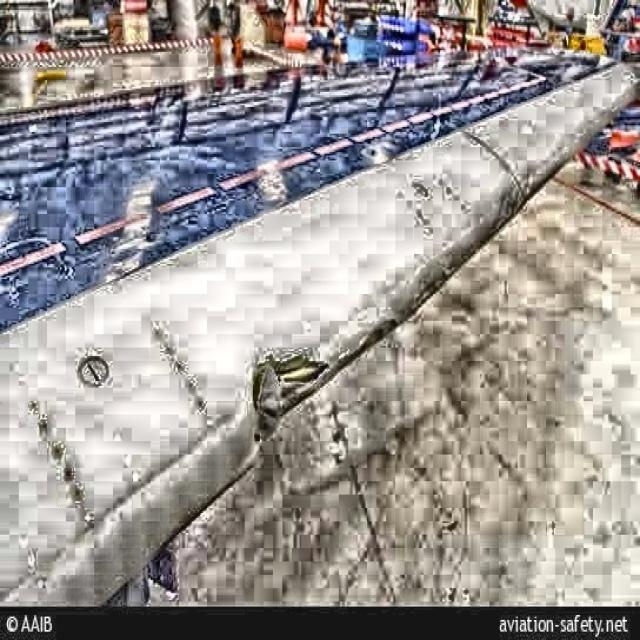crack: (252, 349, 330, 441)
dent: (339, 330, 372, 365)
